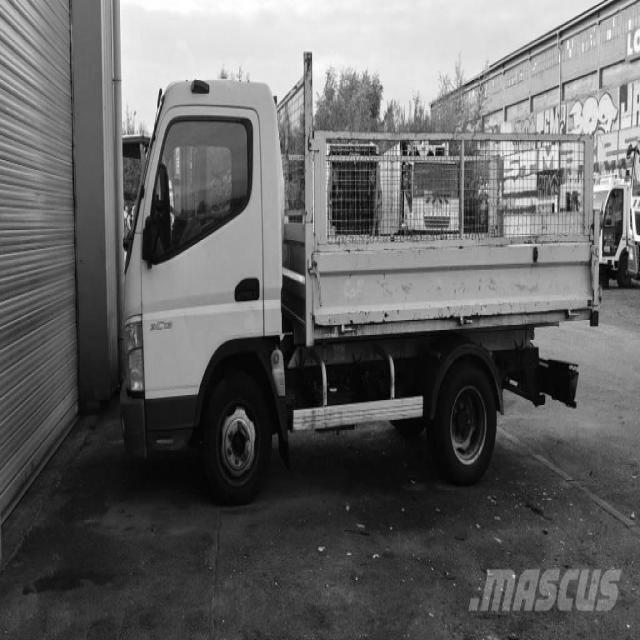truck: (102, 53, 322, 495)
